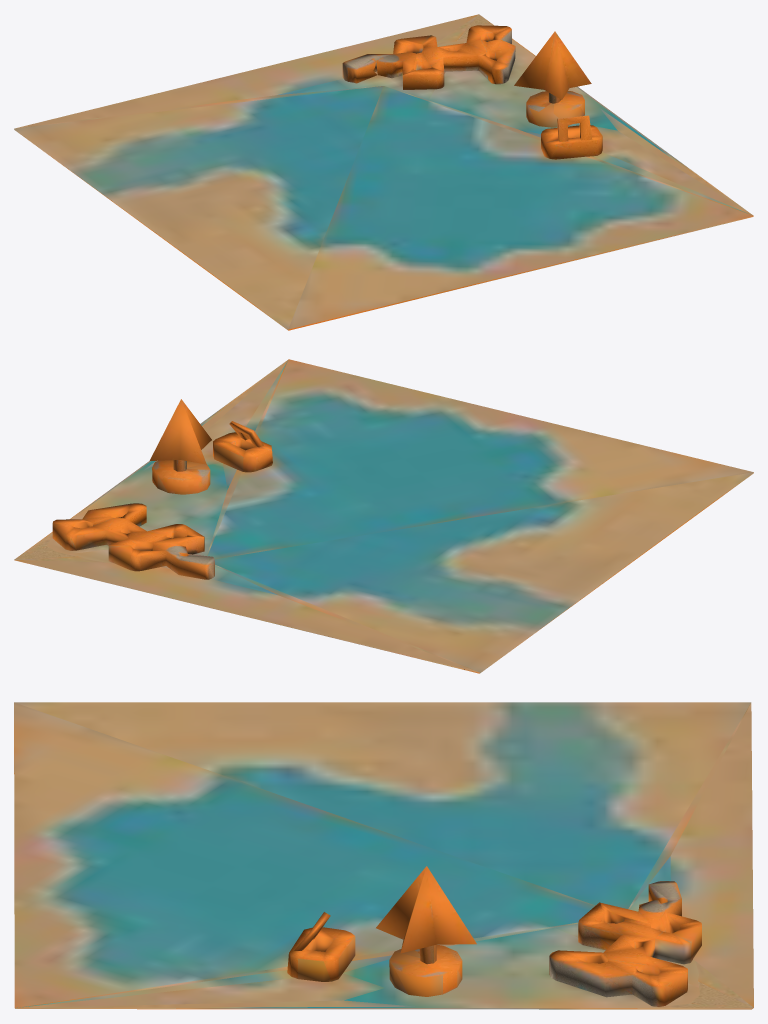
File: arena-lagoon.glb
3 views of the same model, one above another, from view 1: azimuth 30°, elevation 25°; view 2: azimuth 150°, elevation 25°; view 3: azimuth 270°, elevation 25° (orthographic). The views are drawn at different scales.
Size of the model in its own units: 0.9531 by 0.1684 by 0.9751.
1 material, 1 textured.
